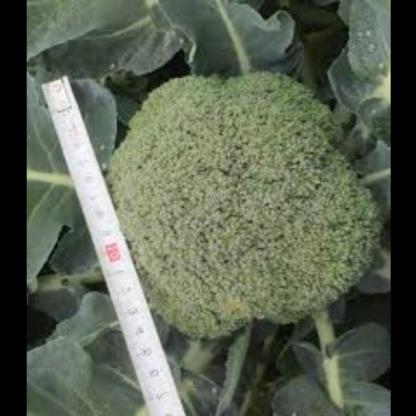broccoli: (98, 40, 373, 350)
